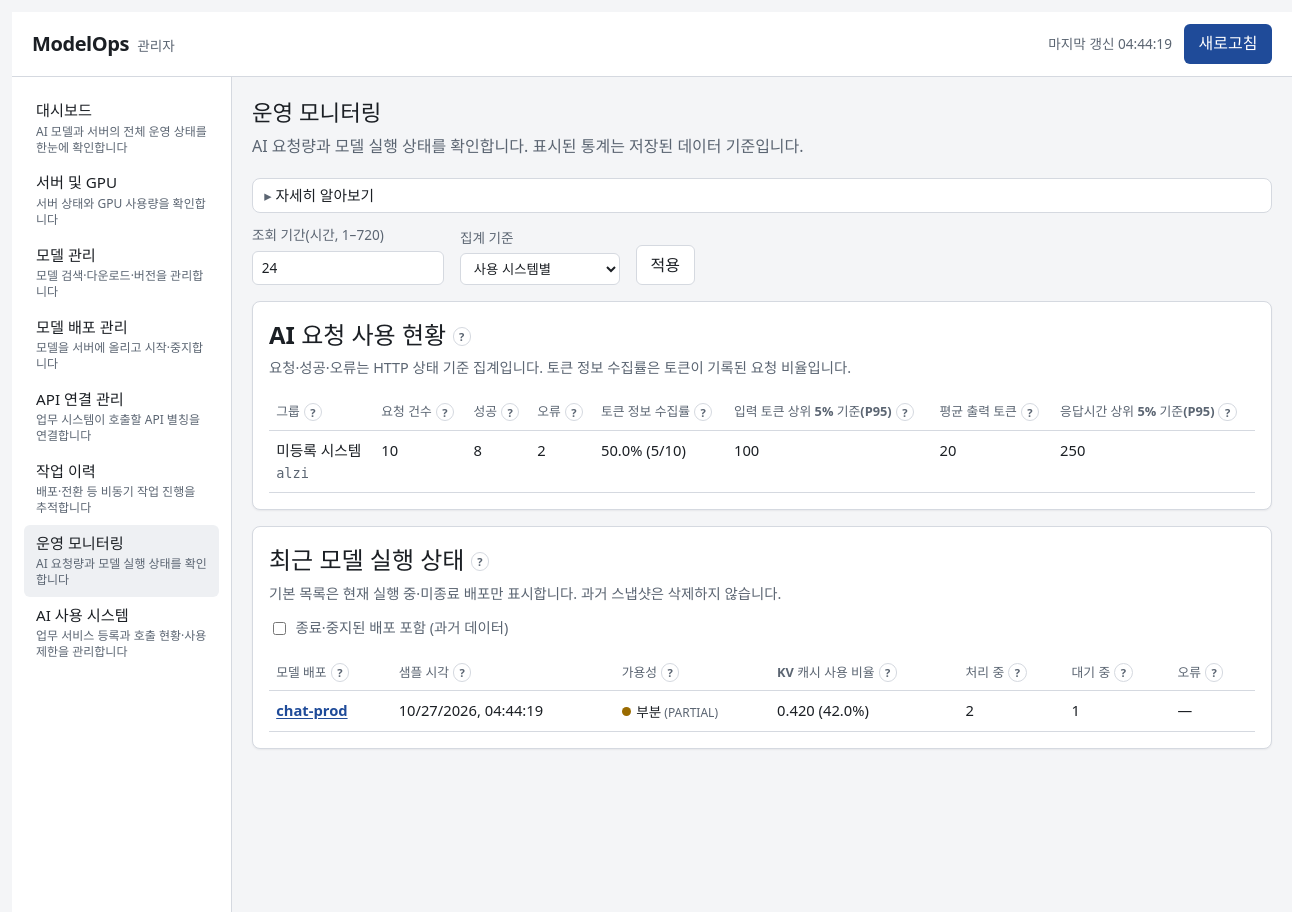
Test: ObservabilityPage › shows active deployments by default and retired snapshots only on opt-in
The width and height of the screenshot is (1292, 912).
Check: the link "chat-prod" is shown, box x1=276 y1=700 x2=348 y2=720
Check: the link "all-MiniLM-L6-v2-managed" is not shown
Click the checkbox labelled "종료·중지된 배포 포함 (과거 데이터)".
click(280, 628)  # box x1=273 y1=622 x2=286 y2=635
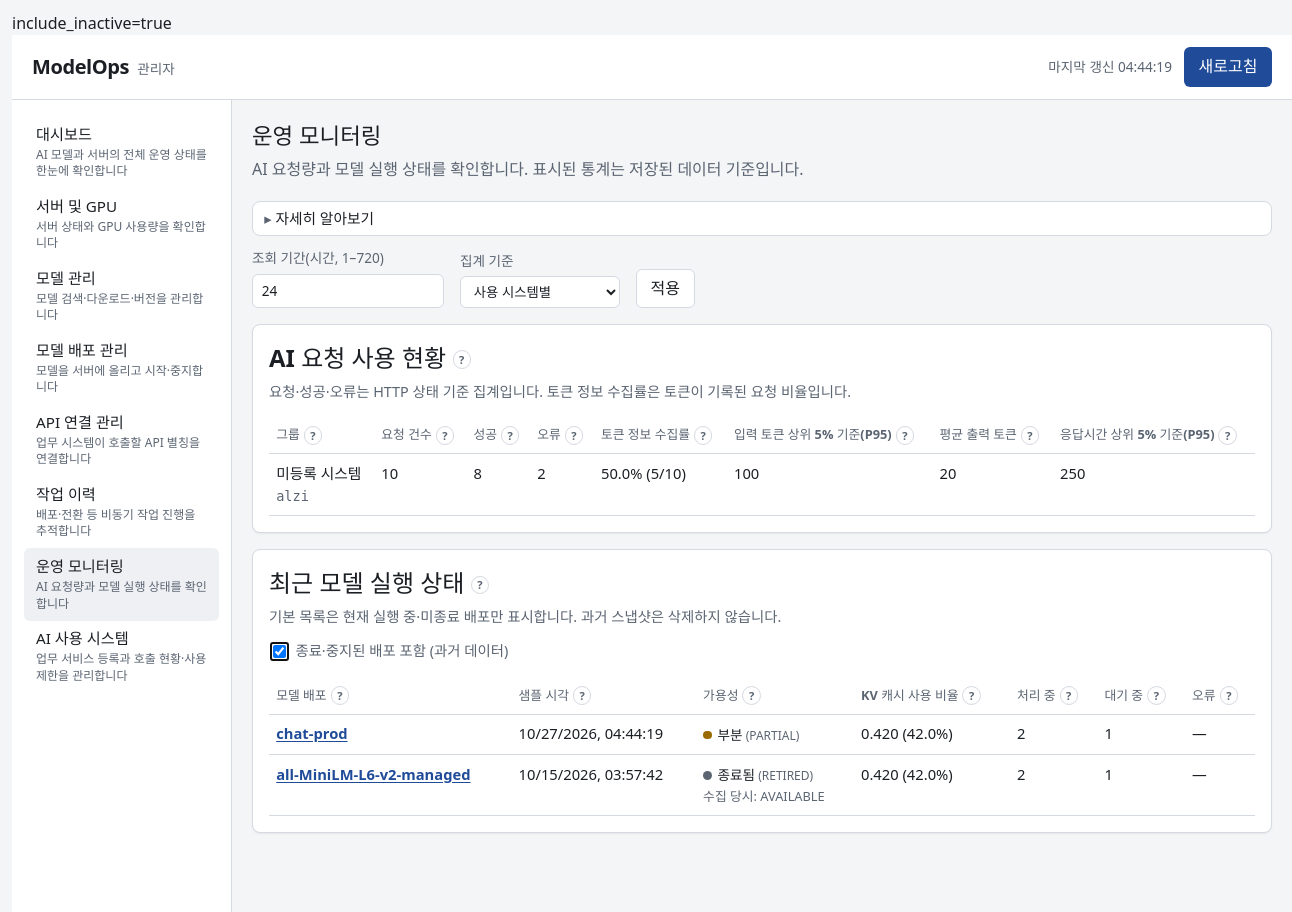
Check: the link "all-MiniLM-L6-v2-managed" is shown, box x1=276 y1=764 x2=470 y2=784
Check: the text "(RETIRED)" is shown, box x1=755 y1=767 x2=813 y2=784
Check: the text "수집 당시: AVAILABLE" is shown, box x1=703 y1=787 x2=825 y2=805
Click the checkbox labelled "종료·중지된 배포 포함 (과거 데이터)".
click(280, 652)  # box x1=273 y1=645 x2=286 y2=658
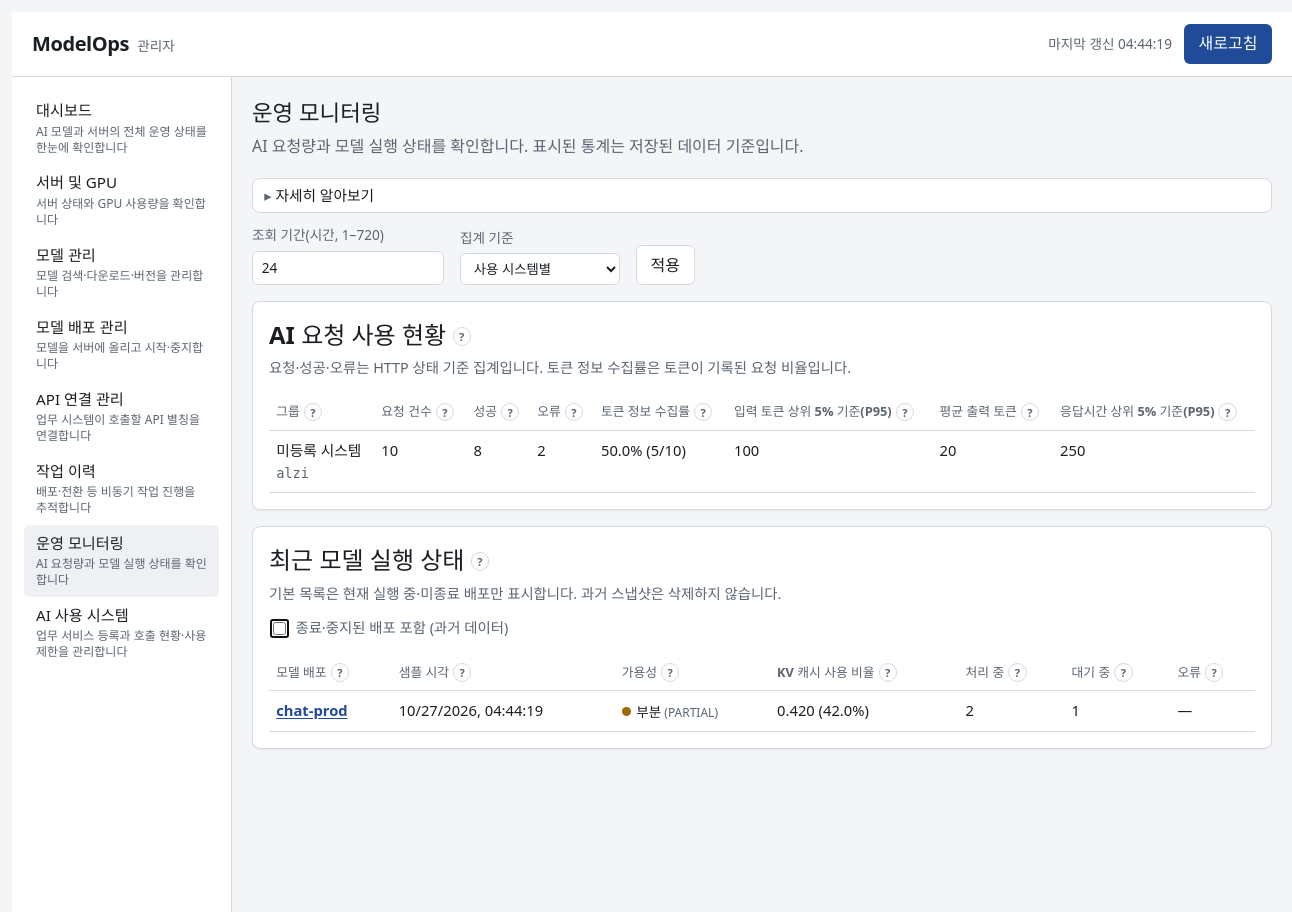
Check: the link "all-MiniLM-L6-v2-managed" is gone
